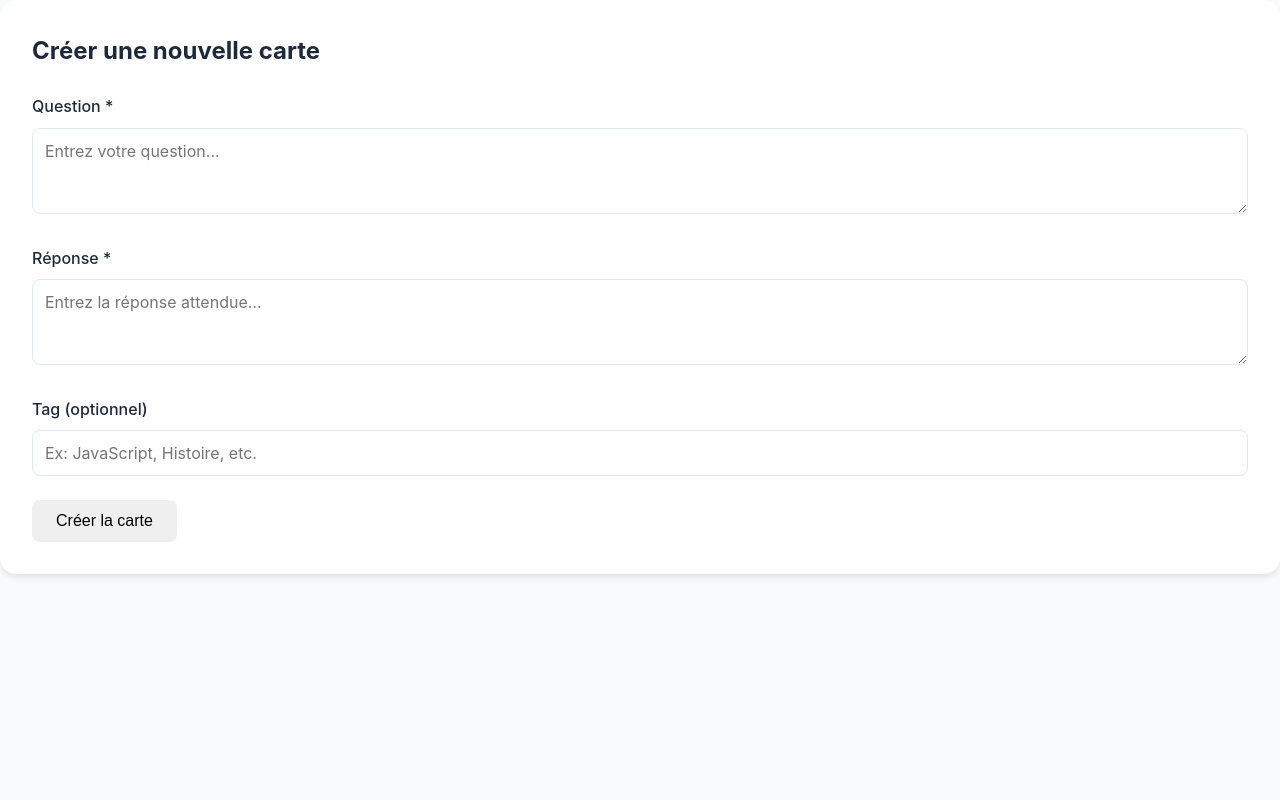
CreateCardForm › should display error on submission failure
Type "Question?" into the text box labelled "Question *". click: (640, 171)
box: [32,128,1248,214]
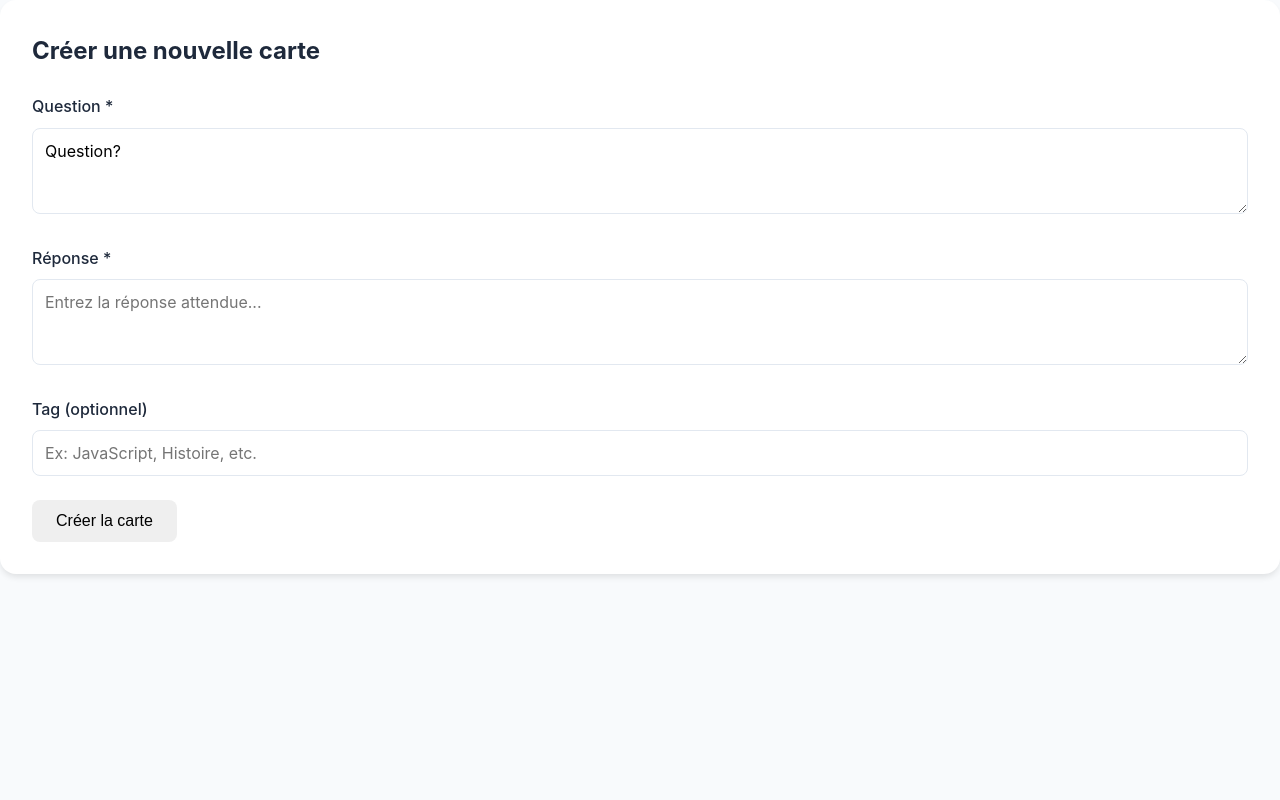
Type "Answer" into the text box labelled "Réponse *". click: (640, 322)
box: [32,279,1248,365]
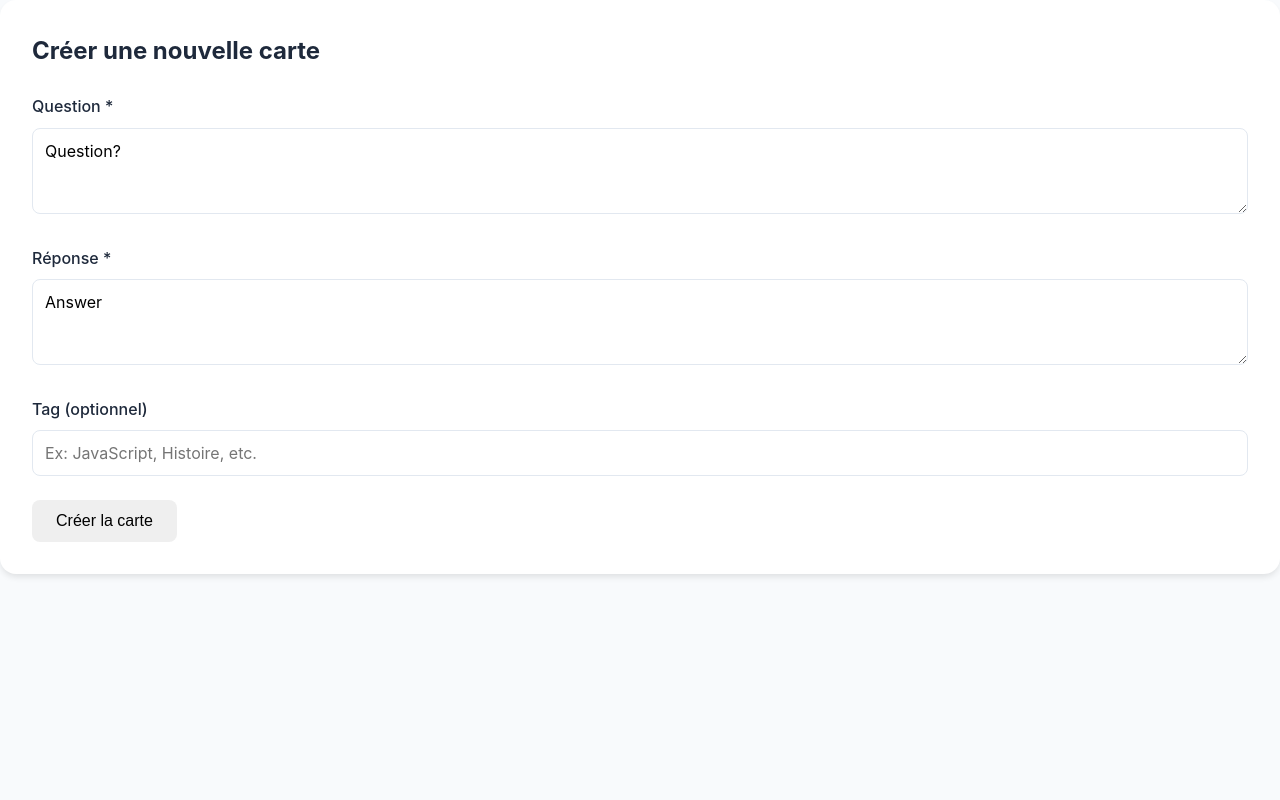
Click the button "Créer la carte". click: (104, 521)
box: [32,500,177,542]
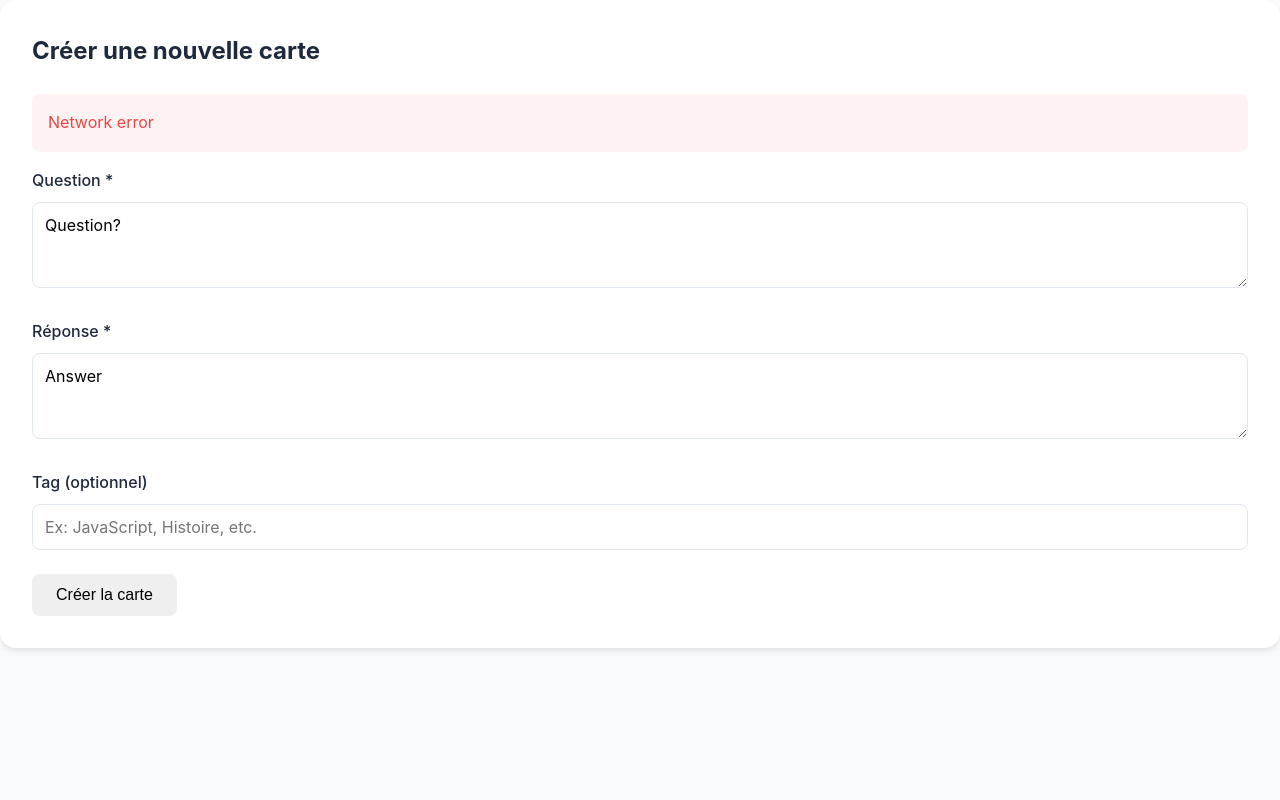
Expected: the text "Network error" is shown, [32,94,1248,152]
